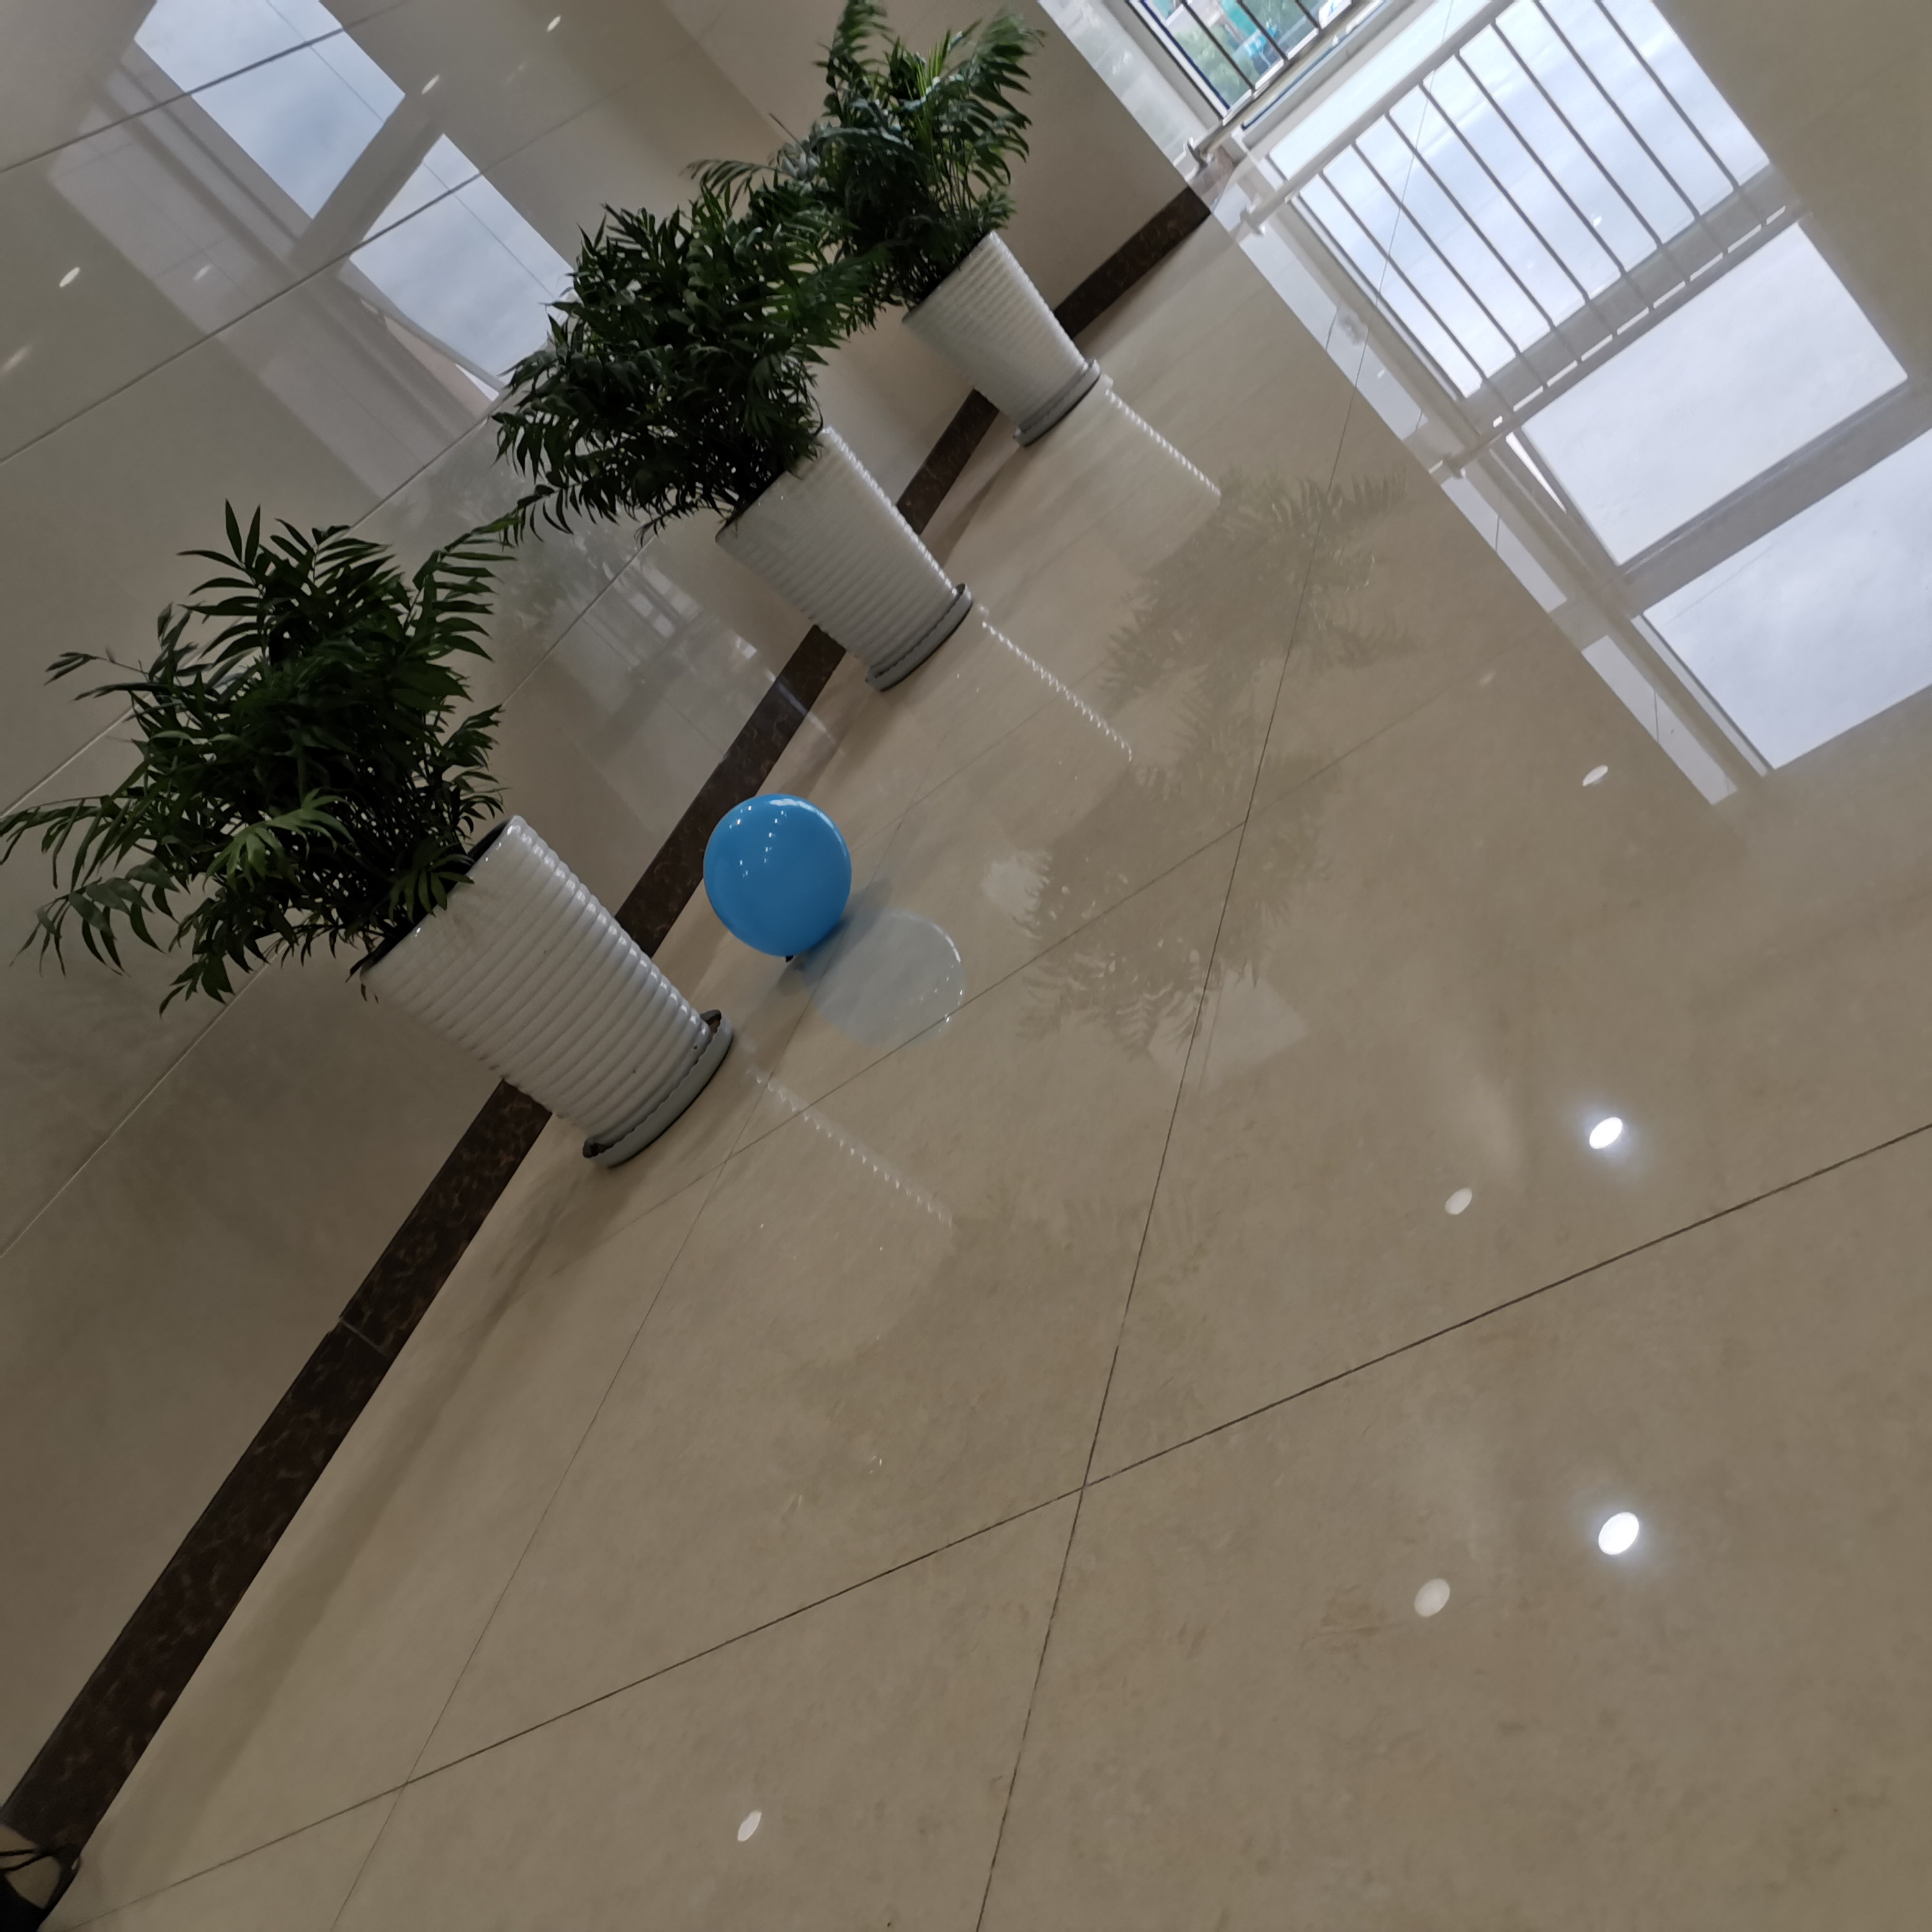balloon: (706, 796, 853, 962)
